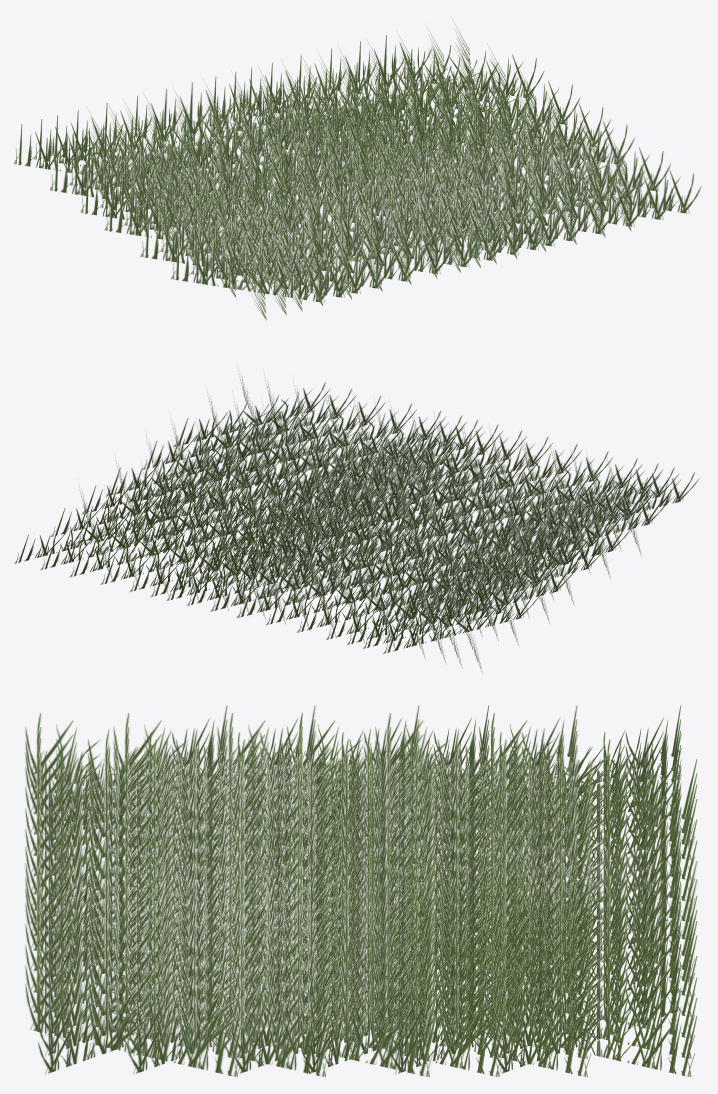
File: Grass2.glb
The picture shows the model from 3 angles, top to bottom: view 1: azimuth 30°, elevation 25°; view 2: azimuth 150°, elevation 25°; view 3: azimuth 270°, elevation 25°; orthographic projection. The views are drawn at different scales.
Parts seen in each view (by area): view 1: Herbe2.003; view 2: Herbe2.003; view 3: Herbe2.003.
Boxes of the visible parts, x1,y1,x2,y2 form: Herbe2.003: (14,17,701,320); Herbe2.003: (14,365,699,673); Herbe2.003: (25,705,697,1077).
Bounding box in the file's own units: 5.92 × 0.4596 × 5.24.
192 materials, 192 textured.
